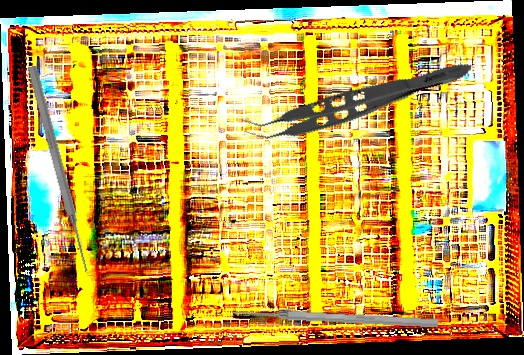Pusher: (24, 64, 94, 274), (231, 305, 439, 330)
Tissue Forceps: (238, 40, 477, 156)
